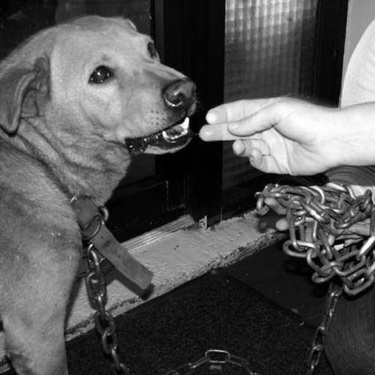dog: (1, 12, 203, 373)
